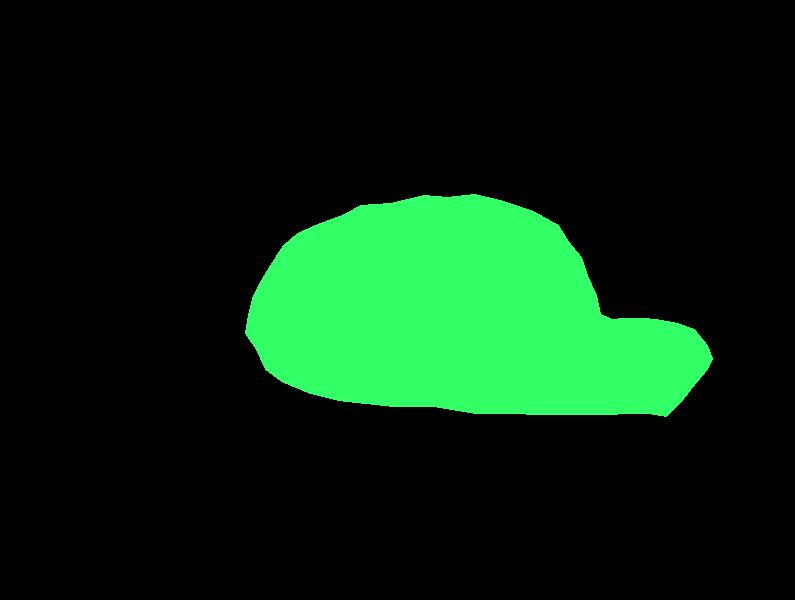Broken part: (245, 194, 712, 416)
